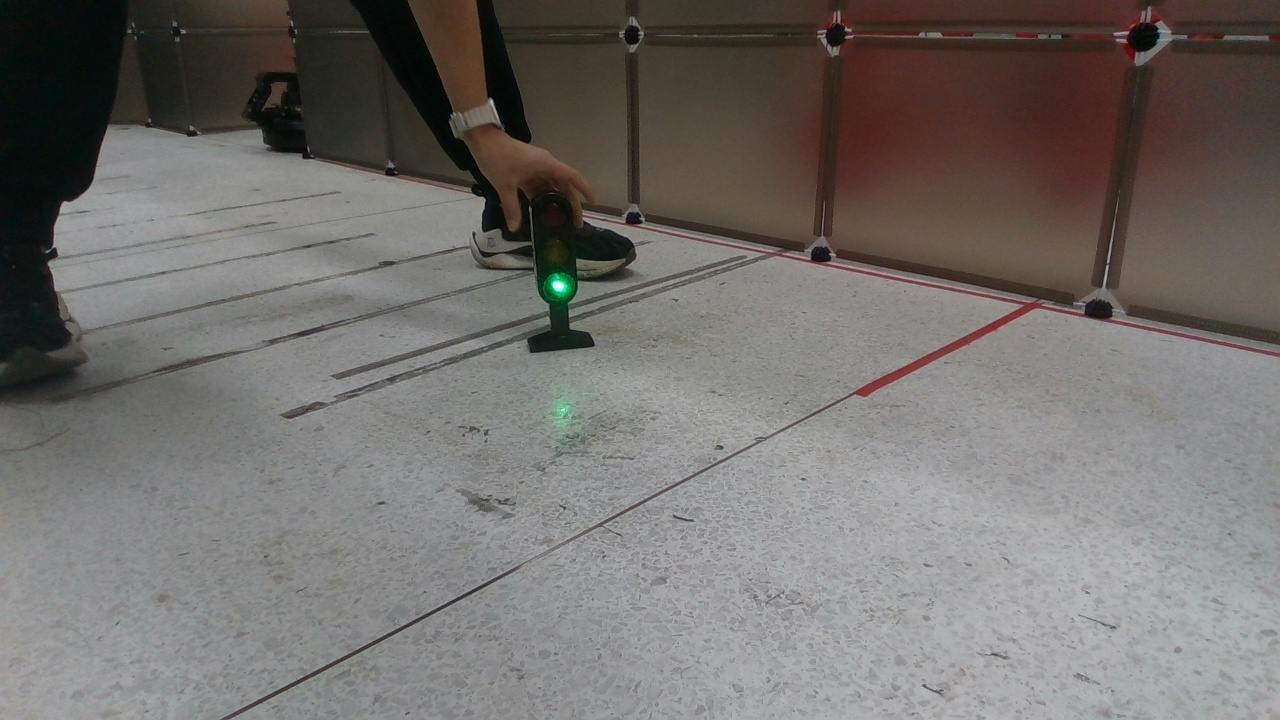Green traffic light: (525, 192, 597, 355)
